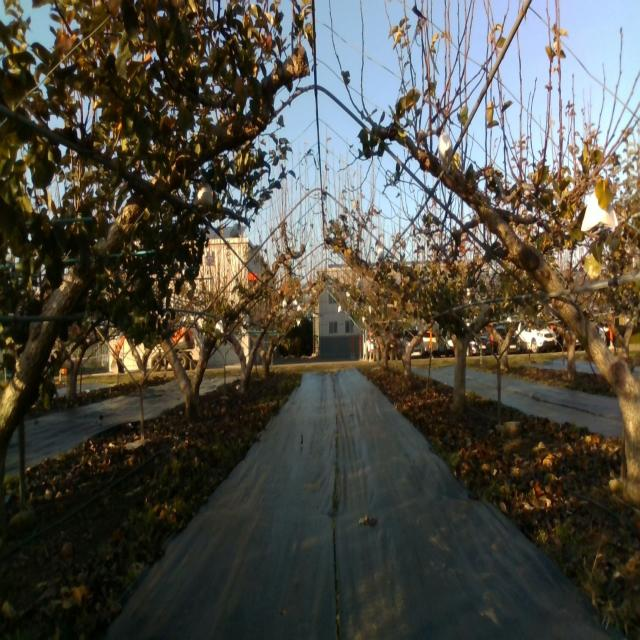pearbags: (580, 192, 618, 231), (438, 132, 452, 174), (194, 176, 212, 208)
